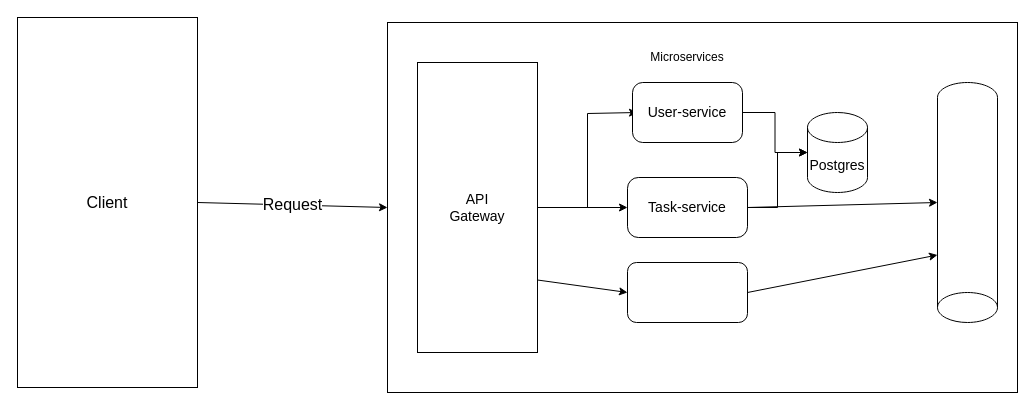
The diagram is 1035 pixels wide and 410 high, and some of its shapes have lost their labels. The centre of each missing label's shape, as x and y in pixels:
Event-service: the point at 687,292
Kafka: the point at 967,202
